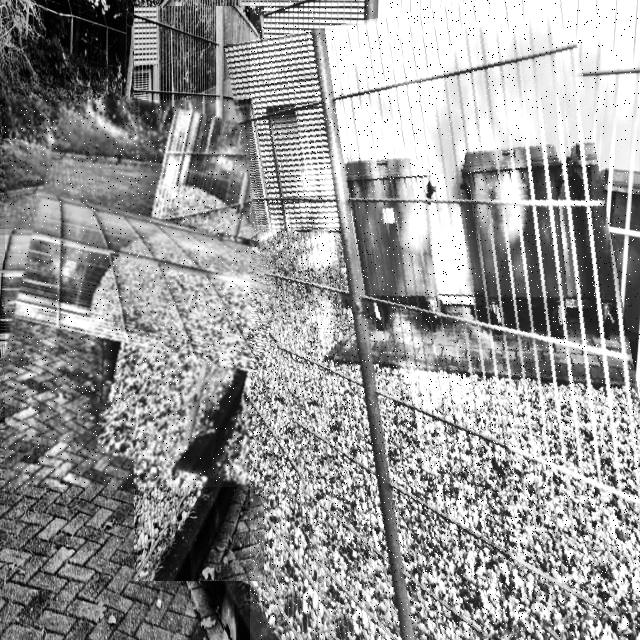fences: (250, 0, 640, 640), (5, 100, 393, 487)
